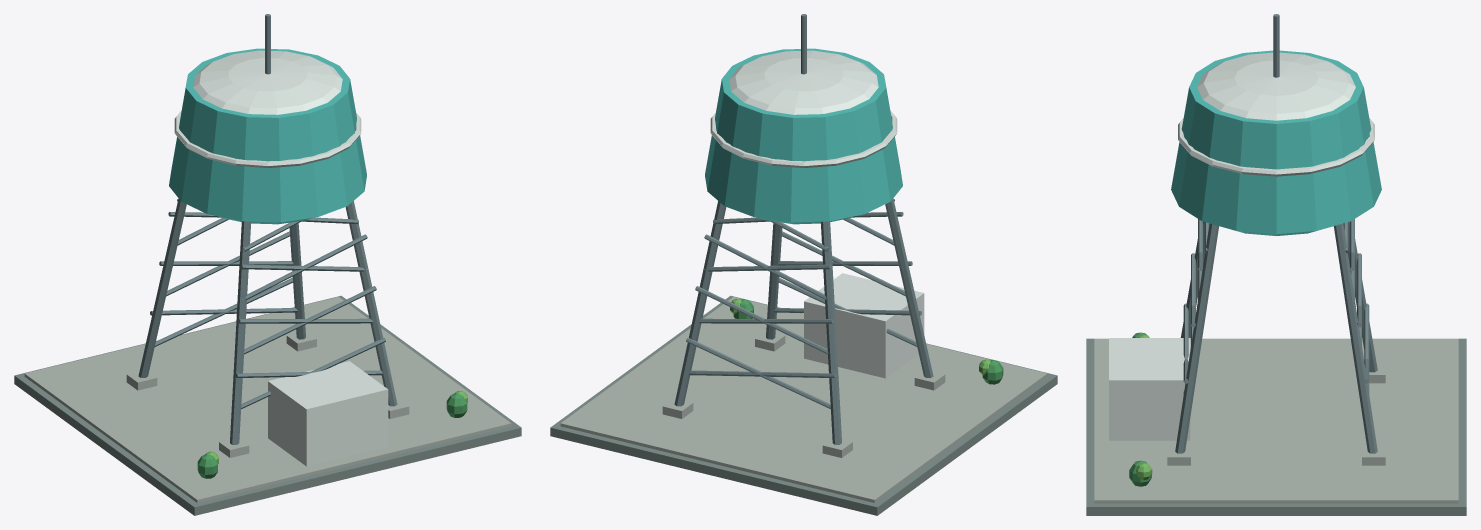
The model's file is water_lv1.glb.
3 views of the same model, side by side, from view 1: azimuth 30°, elevation 25°; view 2: azimuth 150°, elevation 25°; view 3: azimuth 270°, elevation 25° (orthographic). The views are drawn at different scales.
Parts seen in each view (by area): view 1: concrete, turquoise, white, steel, pavement, green; view 2: concrete, turquoise, white, steel, pavement, green; view 3: concrete, turquoise, white, steel, pavement.
Boxes of the visible parts, x1,y1,x2,y2 form: concrete: (24, 297, 511, 502); turquoise: (169, 48, 366, 224); white: (174, 50, 388, 466); steel: (138, 14, 397, 444); pavement: (14, 295, 521, 515); green: (197, 393, 467, 478); concrete: (560, 297, 1047, 502); turquoise: (705, 48, 902, 224); white: (710, 50, 924, 378); steel: (674, 14, 933, 444); pavement: (550, 295, 1057, 515); green: (733, 299, 1003, 384); concrete: (1094, 338, 1458, 503); turquoise: (1171, 50, 1381, 235); white: (1109, 52, 1374, 440); steel: (1175, 14, 1377, 453); pavement: (1086, 338, 1466, 515).
Size of the model in its own units: 8.8 by 10.15 by 8.4.
